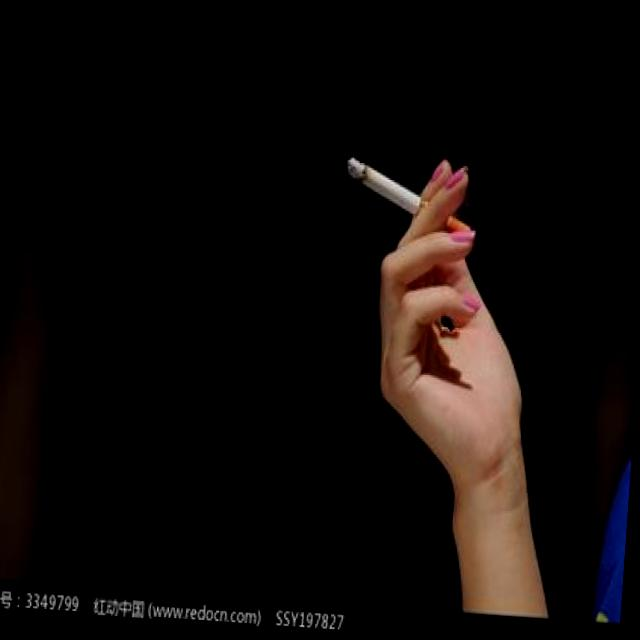smoke: (340, 154, 478, 254)
